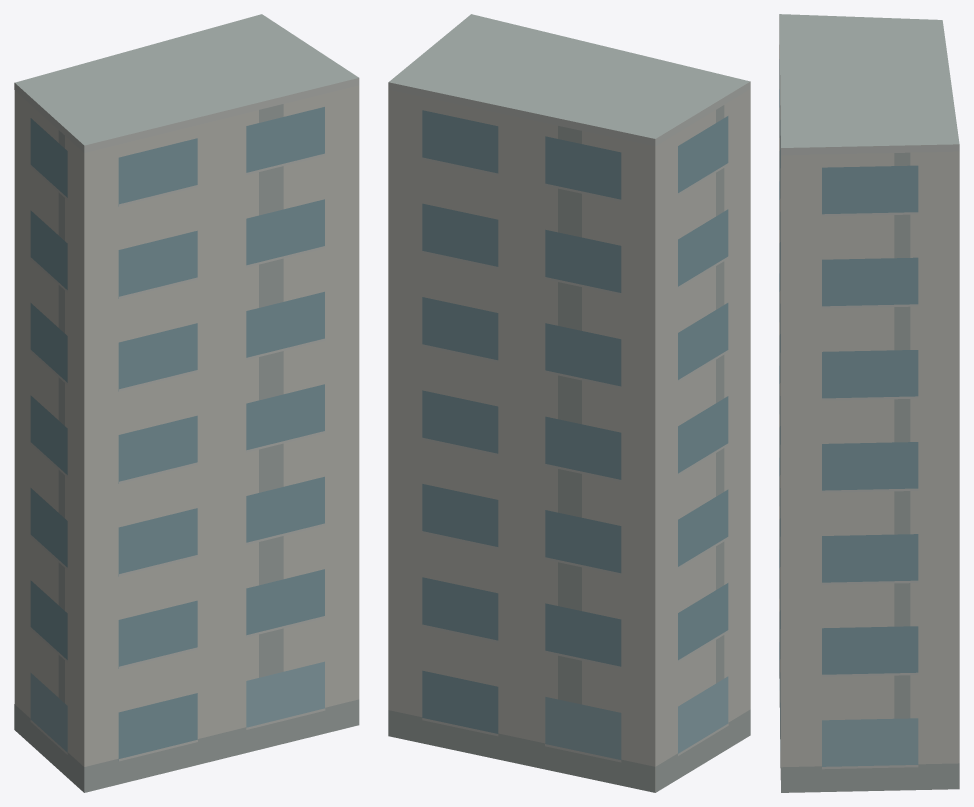
The model's file is survey-upis-32459055.glb.
3 renders of one model, left to right at view 1: azimuth 30°, elevation 25°; view 2: azimuth 150°, elevation 25°; view 3: azimuth 270°, elevation 25°, orthographic.
Visible parts, largest first — view 1: survey-upis-32459055.tmp; view 2: survey-upis-32459055.tmp; view 3: survey-upis-32459055.tmp.
Boxes of the visible parts, x1,y1,x2,y2 form: survey-upis-32459055.tmp: [14, 14, 359, 792]; survey-upis-32459055.tmp: [388, 14, 750, 792]; survey-upis-32459055.tmp: [779, 14, 959, 792].
Size of the model in its own units: 9.53 by 21.35 by 5.42.
